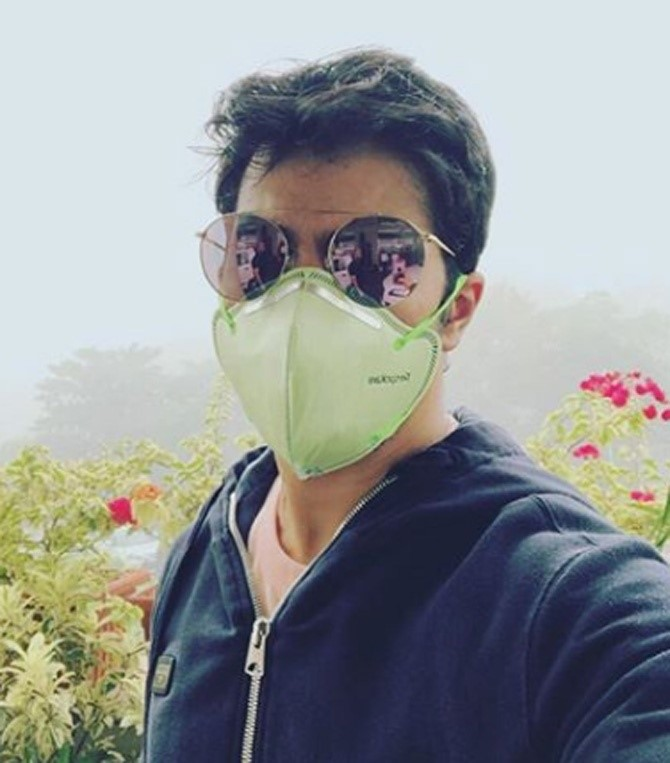face_with_mask: (186, 43, 497, 481)
